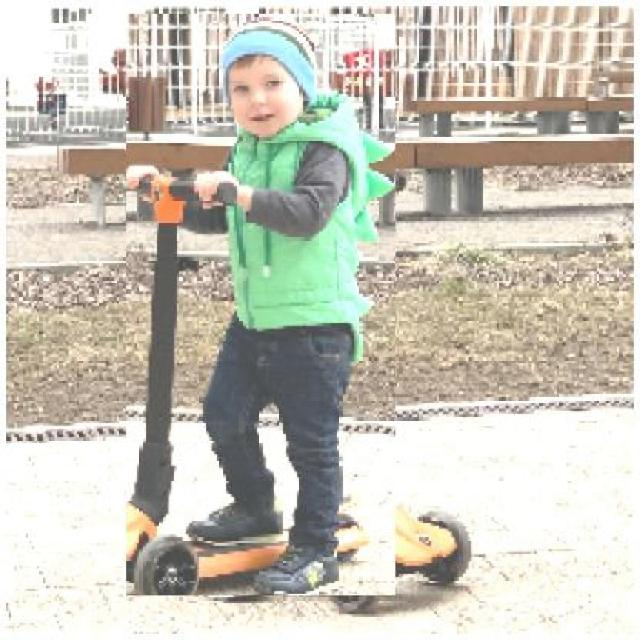child: (124, 14, 396, 597)
